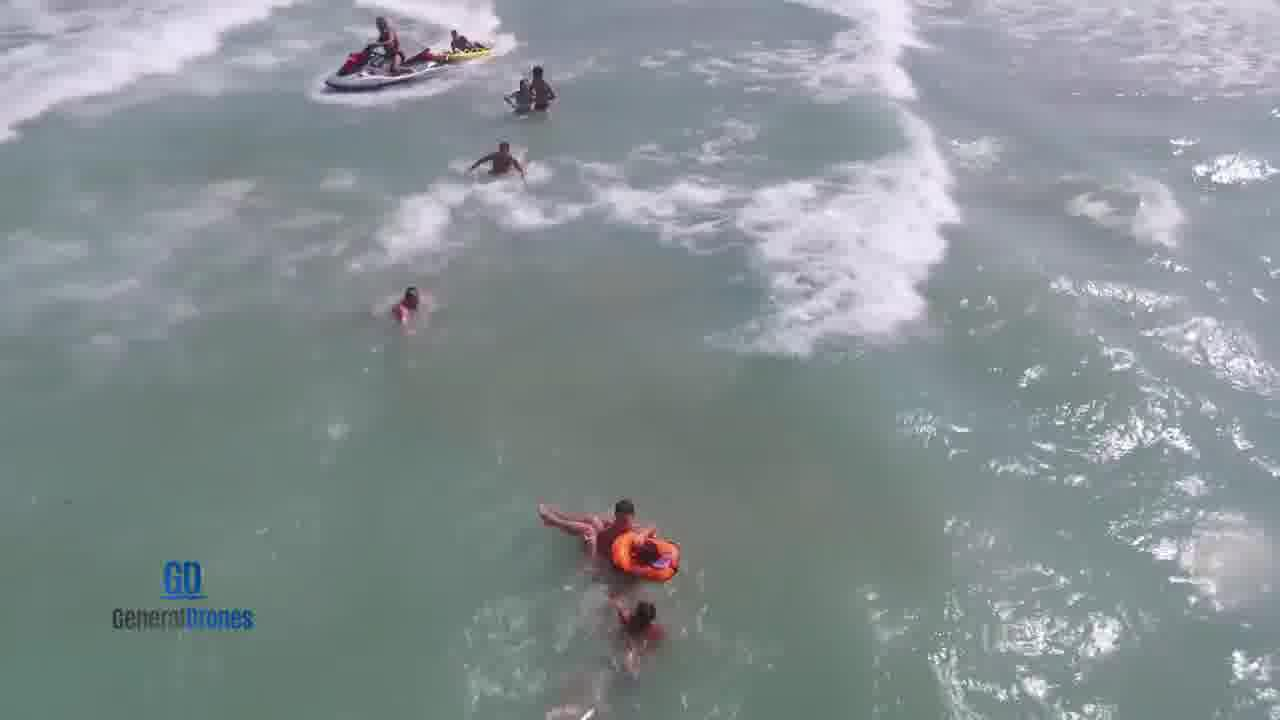human: (528, 492, 687, 578), (591, 577, 670, 704), (457, 135, 542, 189), (377, 275, 445, 335), (581, 481, 649, 540)
